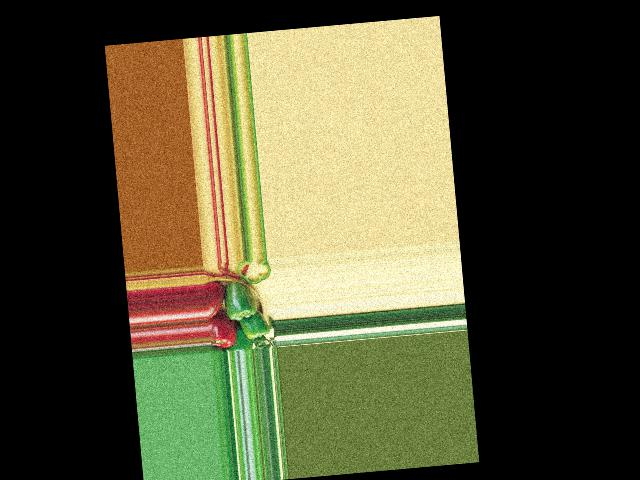bell_pepper: (205, 280, 224, 319)
